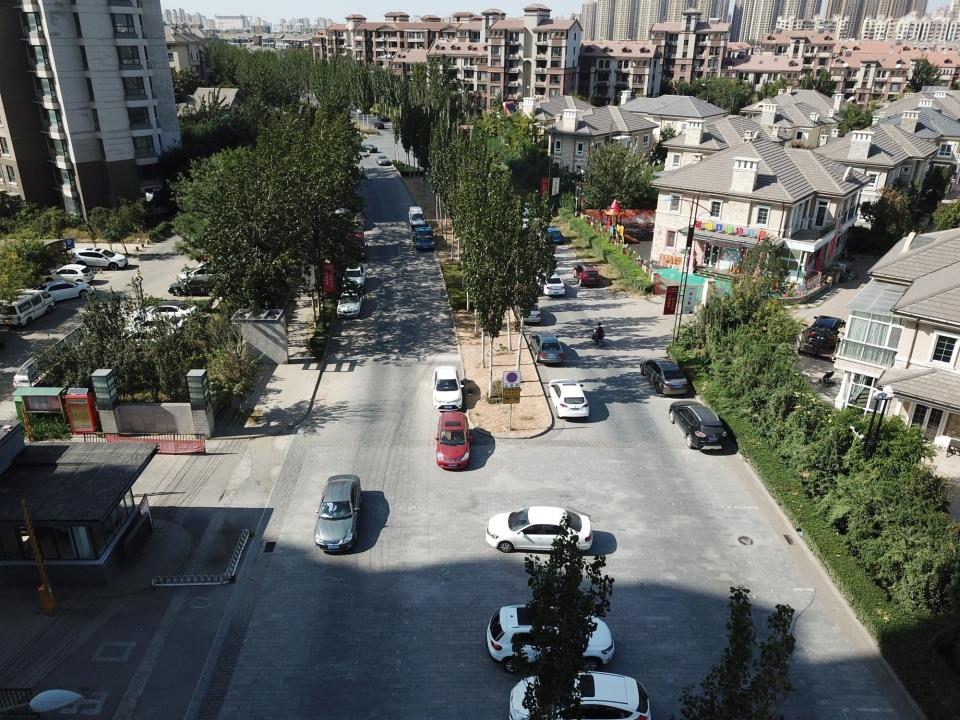car: (486, 605, 618, 670), (502, 671, 662, 719), (486, 508, 594, 553), (312, 474, 362, 552), (667, 399, 728, 455), (638, 356, 691, 397), (437, 412, 471, 472), (548, 378, 590, 422), (801, 315, 845, 357), (4, 288, 55, 324), (430, 366, 468, 411), (11, 356, 60, 386), (70, 246, 130, 270), (35, 279, 93, 301), (132, 300, 200, 318), (526, 332, 564, 364), (125, 318, 180, 338), (40, 264, 95, 282), (535, 269, 565, 298), (334, 287, 362, 317), (166, 282, 230, 295), (178, 267, 230, 282), (342, 231, 367, 259), (341, 263, 368, 286), (572, 264, 601, 284), (520, 200, 537, 233), (520, 301, 544, 323), (546, 224, 564, 244), (345, 212, 366, 229), (358, 142, 378, 152), (375, 154, 390, 166), (373, 121, 384, 130), (377, 114, 389, 122), (343, 103, 353, 111), (354, 108, 366, 114)
truck: (411, 225, 436, 250)
van: (407, 204, 425, 226)
